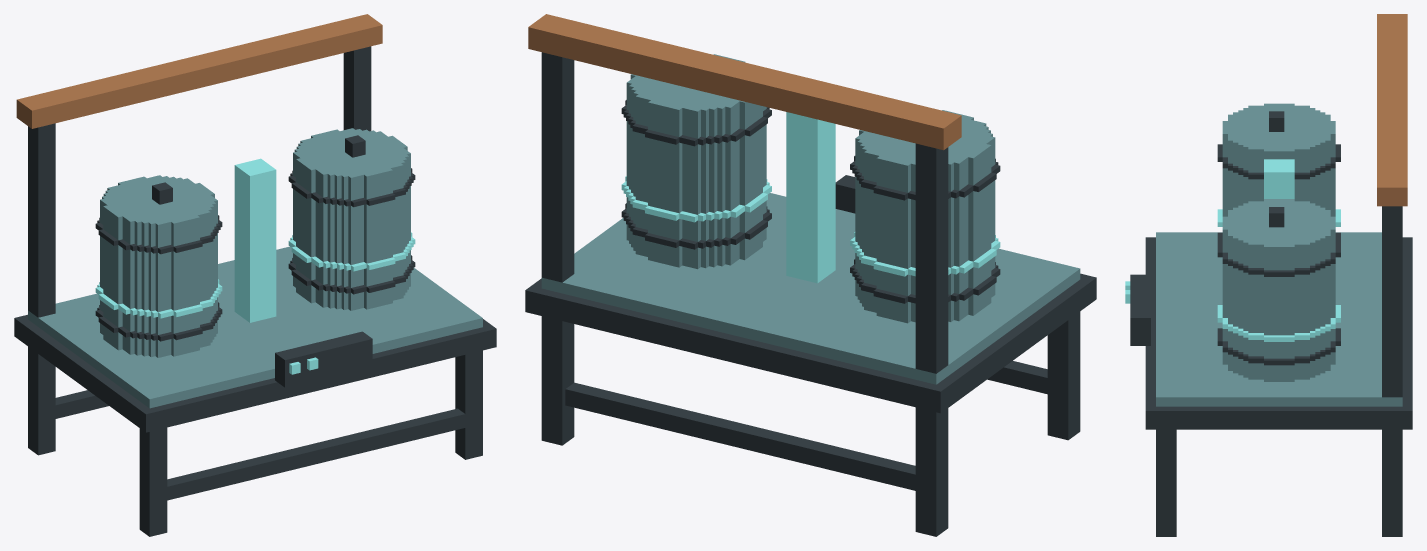
Rendered from arcane_engineering_station_t7.glb.
The picture shows the model from 3 angles, left to right: view 1: azimuth 30°, elevation 25°; view 2: azimuth 150°, elevation 25°; view 3: azimuth 270°, elevation 25°; orthographic projection. The views are drawn at different scales.
Visible parts, largest first — view 1: arcane_engineering_station_t7/work_surface, arcane_engineering_station_t7/frame, arcane_engineering_station_t7/work_surface_lid_0, arcane_engineering_station_t7/work_surface_lid_1; view 2: arcane_engineering_station_t7/work_surface, arcane_engineering_station_t7/frame, arcane_engineering_station_t7/work_surface_lid_0, arcane_engineering_station_t7/work_surface_lid_1; view 3: arcane_engineering_station_t7/work_surface, arcane_engineering_station_t7/frame, arcane_engineering_station_t7/work_surface_lid_1, arcane_engineering_station_t7/work_surface_lid_0.
Part boxes in pixels (x1,y1,x2,y2): arcane_engineering_station_t7/work_surface: [16, 14, 482, 408]; arcane_engineering_station_t7/frame: [14, 314, 496, 536]; arcane_engineering_station_t7/work_surface_lid_0: [100, 175, 217, 229]; arcane_engineering_station_t7/work_surface_lid_1: [293, 128, 410, 182]; arcane_engineering_station_t7/work_surface: [528, 14, 1080, 384]; arcane_engineering_station_t7/frame: [525, 273, 1096, 536]; arcane_engineering_station_t7/work_surface_lid_0: [855, 110, 995, 170]; arcane_engineering_station_t7/work_surface_lid_1: [626, 54, 750, 116]; arcane_engineering_station_t7/work_surface: [1125, 14, 1407, 406]; arcane_engineering_station_t7/frame: [1145, 237, 1412, 536]; arcane_engineering_station_t7/work_surface_lid_1: [1222, 199, 1335, 251]; arcane_engineering_station_t7/work_surface_lid_0: [1222, 103, 1335, 155].
Size of the model in its own units: 2.5 by 2.38 by 1.75.
